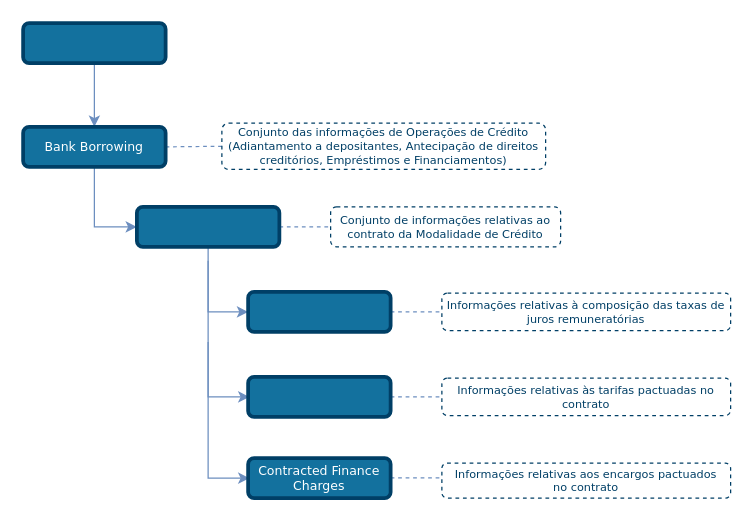
Image size: 753x521. Some labels were removed from this diagram. Each missing label, with the box of its shape:
Contract: (134, 204, 281, 248)
Contracted Fees: (246, 374, 392, 418)
Data: (21, 21, 167, 64)
Interest Rates: (246, 289, 392, 333)
